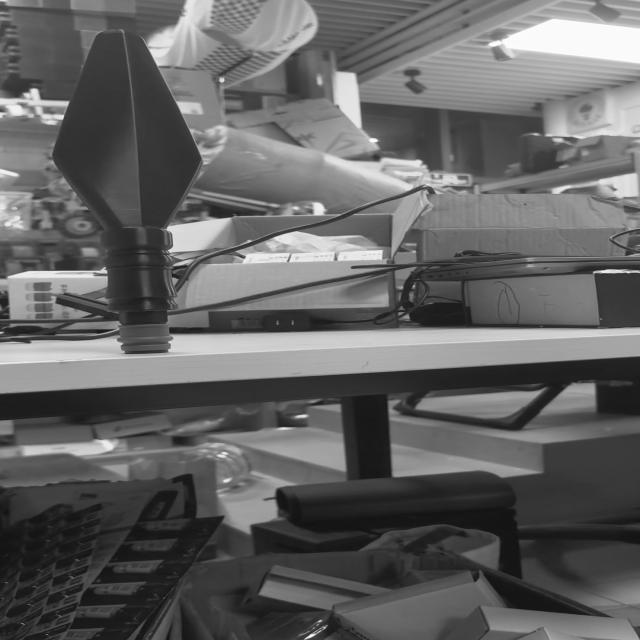base: (109, 319, 184, 359)
